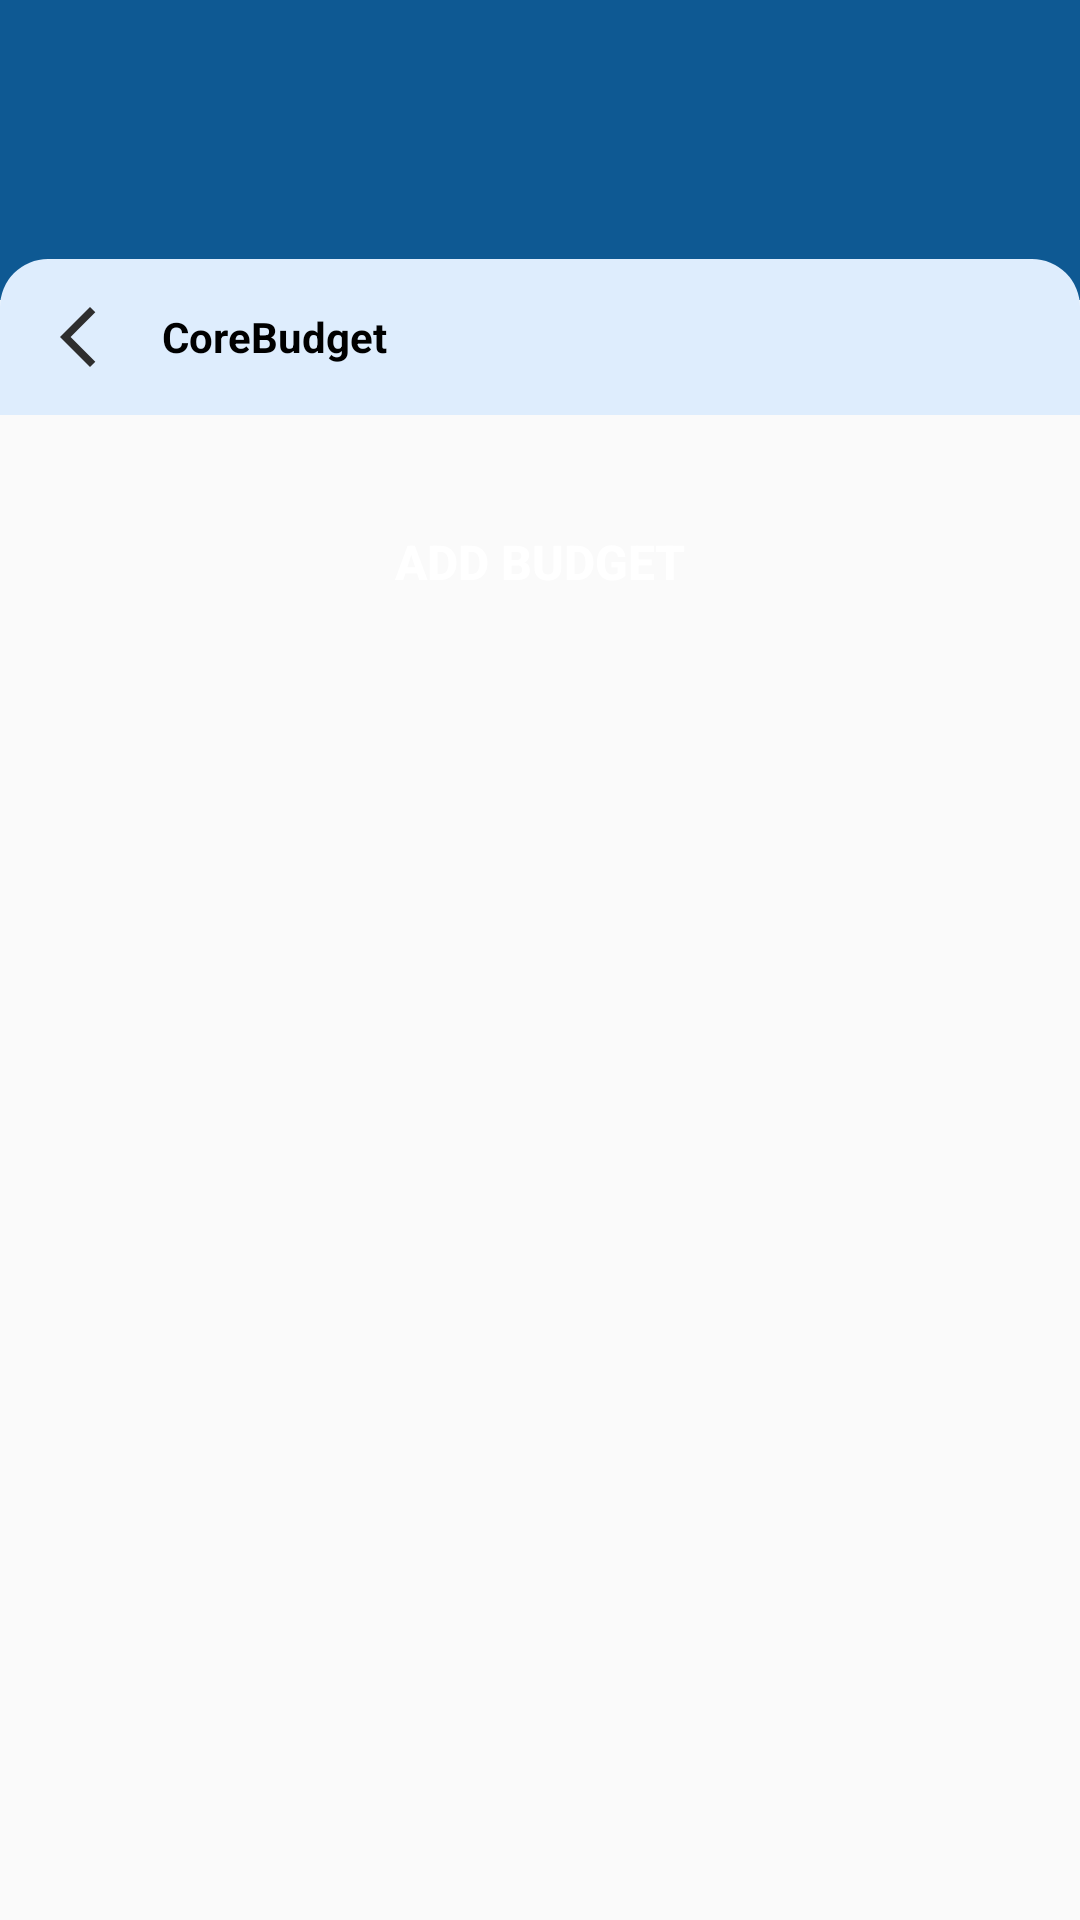

Point at icon controls on the screen. Image size 1080px×1920px, points as (x=x, y=y).
arrow backward: (x=77, y=337)
